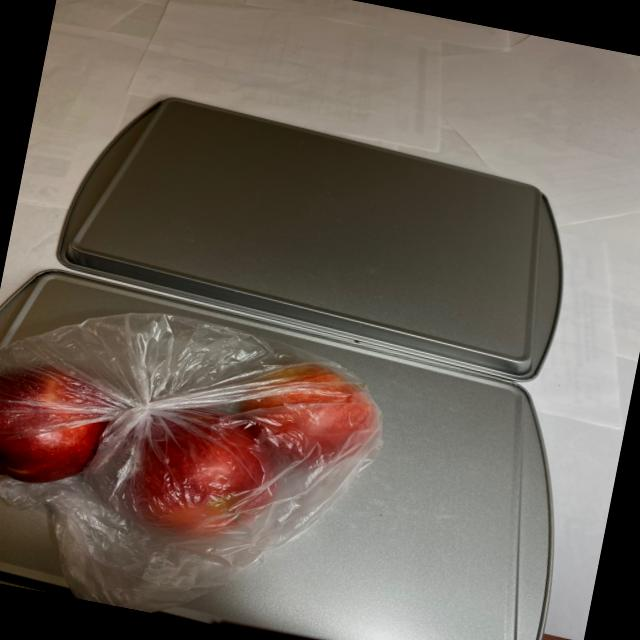apple: (0, 300, 392, 591)
